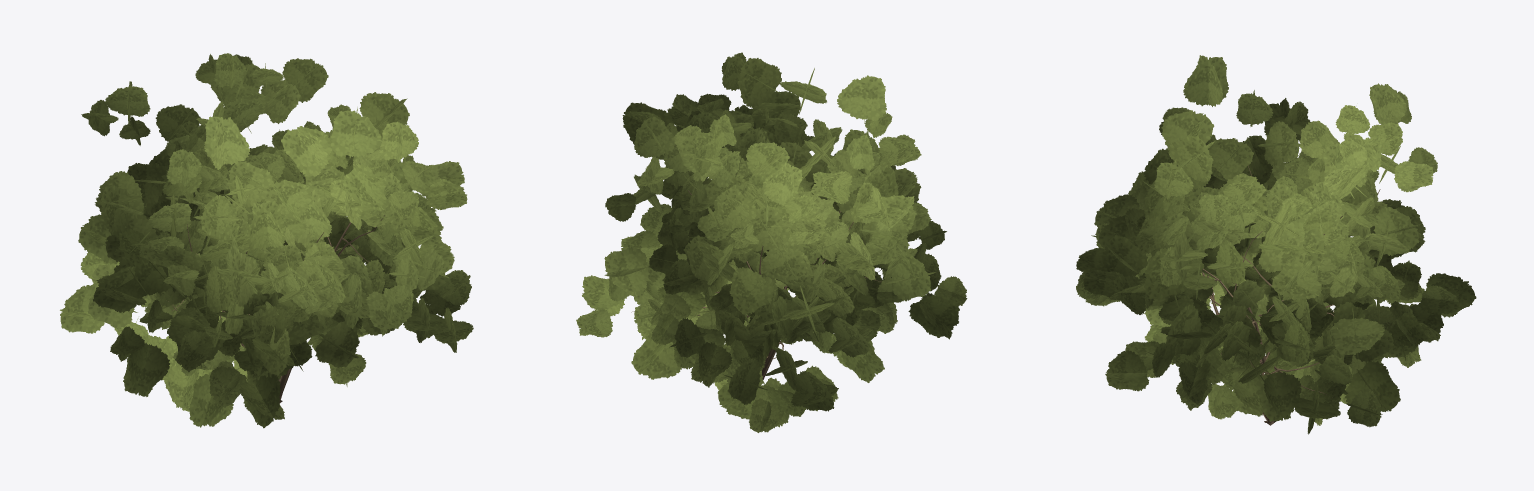
File: matorral.glb
The picture shows the model from 3 angles, left to right: view 1: azimuth 30°, elevation 25°; view 2: azimuth 150°, elevation 25°; view 3: azimuth 270°, elevation 25°; orthographic projection. The views are drawn at different scales.
Parts seen in each view (by area): view 1: matorral; view 2: matorral; view 3: matorral.
Part boxes in pixels (x1,y1,x2,y2): matorral: (60, 53, 473, 428); matorral: (576, 52, 967, 432); matorral: (1076, 55, 1476, 434).
Bounding box in the file's own units: 3.05 × 2.78 × 3.13.
Materials: 2 (1 with a texture image).
